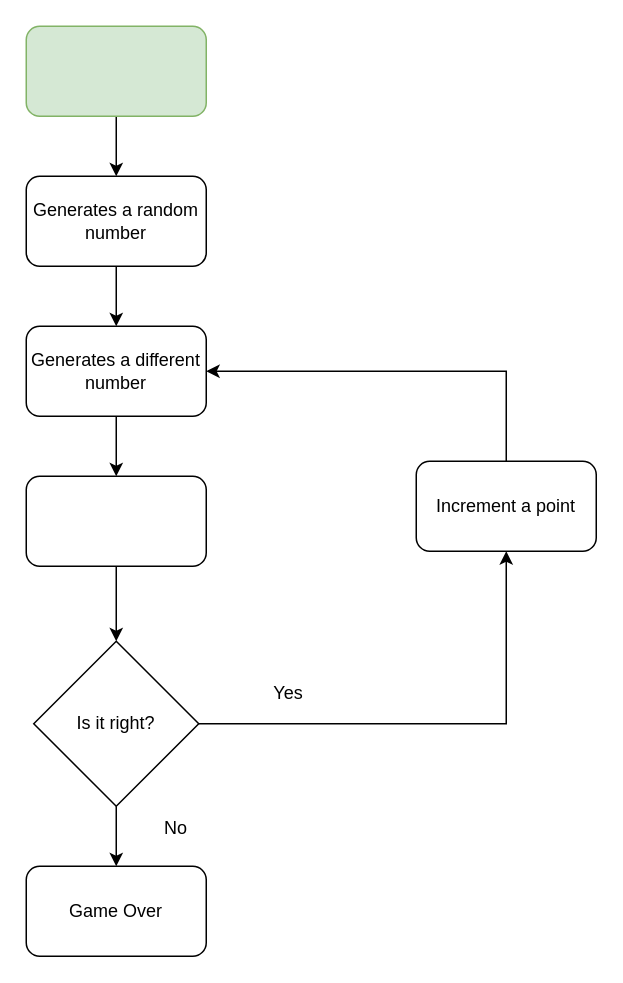
Some shapes in this 623 by 983 pixel diagram are drawn without their labels. Each missing label, with the centre of its shape:
"Prints the question" belongs at (115,520).
"Start" belongs at (115,70).
